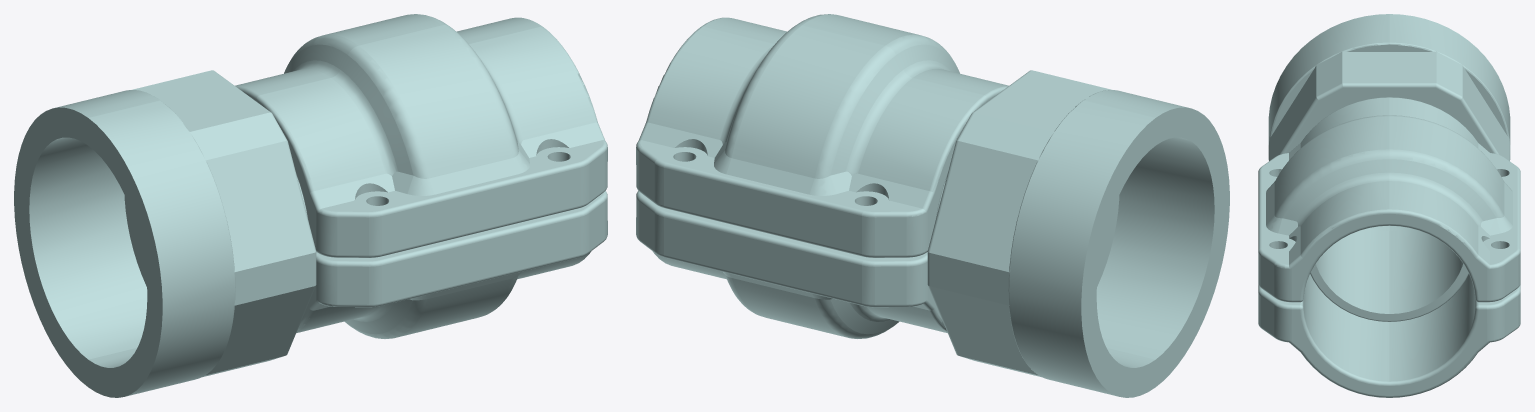
3 renders of one model, left to right at view 1: azimuth 30°, elevation 25°; view 2: azimuth 150°, elevation 25°; view 3: azimuth 270°, elevation 25°, orthographic. The views are drawn at different scales.
Bounding box in the file's own units: 126 × 74.3 × 77.
